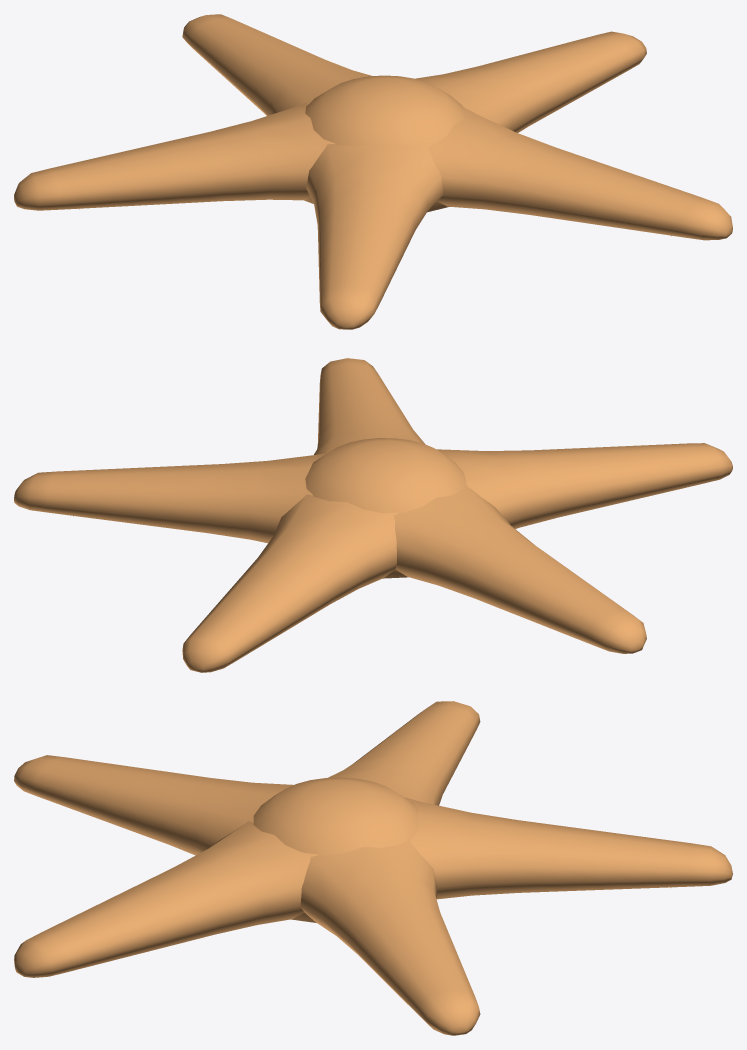
Rendered from starfish_classic_game.glb.
3 views of the same model, one above another, from view 1: azimuth 30°, elevation 25°; view 2: azimuth 150°, elevation 25°; view 3: azimuth 270°, elevation 25° (orthographic). The views are drawn at different scales.
Parts seen in each view (by area): view 1: starfish_classic_game; view 2: starfish_classic_game; view 3: starfish_classic_game.
Boxes of the visible parts, bbox=[...] form: starfish_classic_game: bbox=[14, 14, 732, 329]; starfish_classic_game: bbox=[14, 358, 732, 672]; starfish_classic_game: bbox=[14, 701, 732, 1035].
Size of the model in its own units: 0.2577 by 0.0342 by 0.2459.
